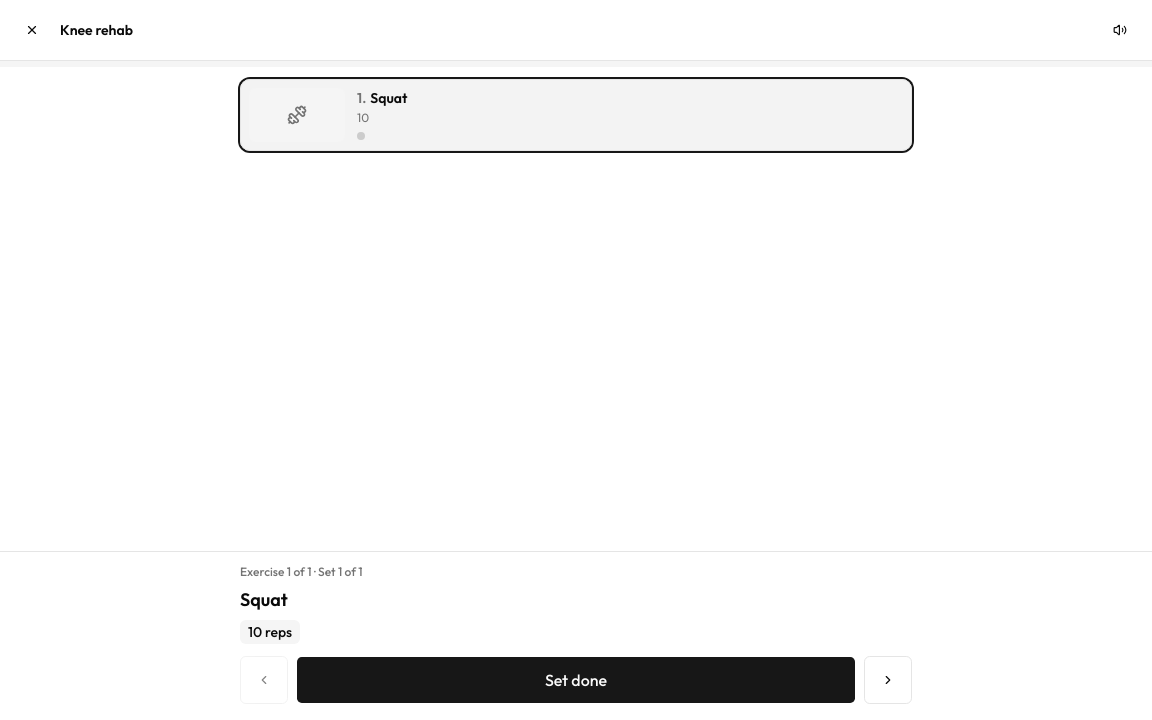
Test: WorkoutPlayer › hands off to the session log on the finish screen, and only there
This screenshot has width=1152, height=720.
Expected: the button "Log session" is not shown
Click the button "Set done": click(576, 680) [296,656,856,704]
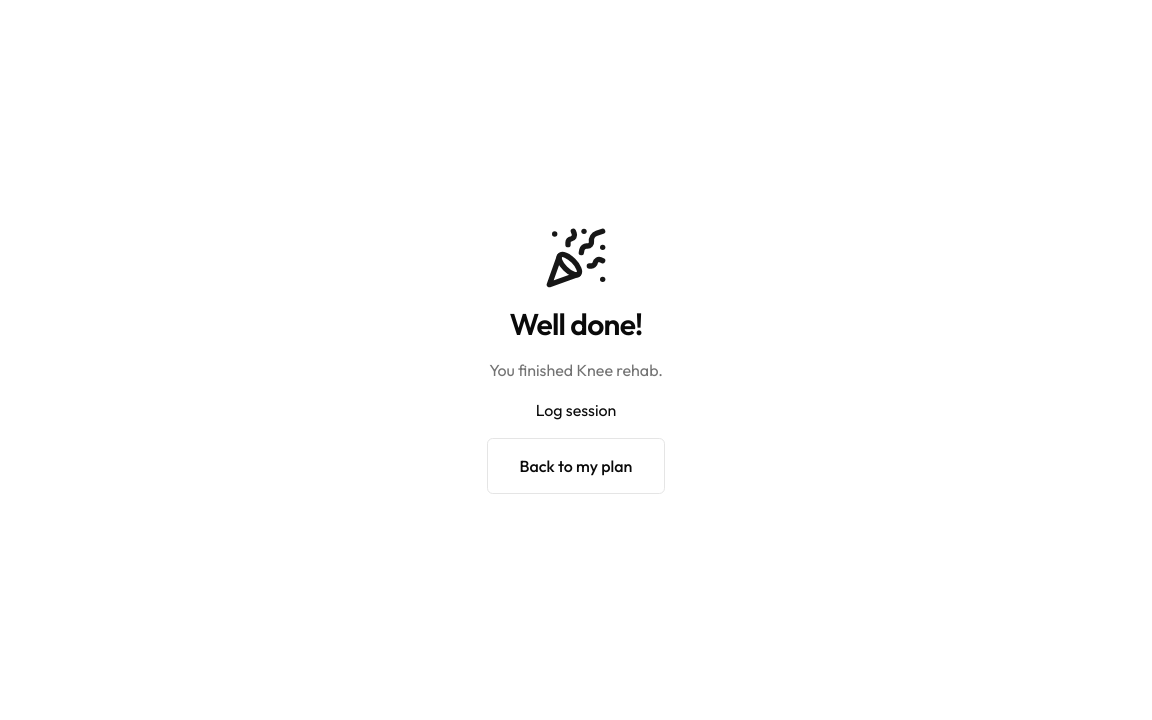
Expected: the heading "Well done!" is shown, [509,306,643,342]
Expected: the button "Log session" is shown, [536,398,616,422]
Expected: the button "Back to my plan" is shown, [487,438,665,494]
